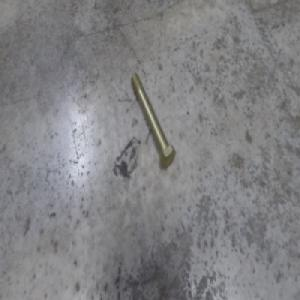Bolt: (132, 71, 177, 167)
